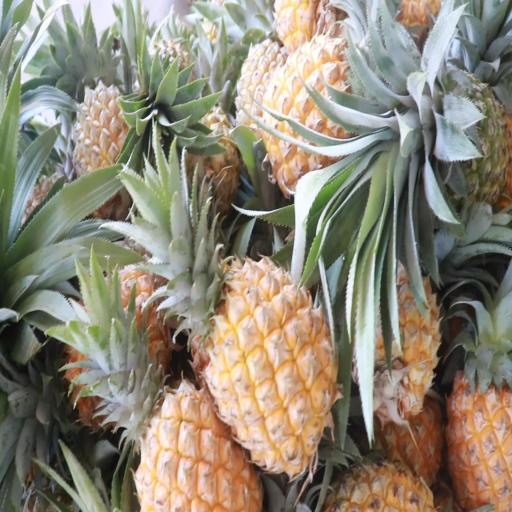Pineapple - v8 v1: (186, 258, 338, 473), (260, 34, 401, 194), (132, 349, 256, 512), (446, 315, 512, 512)
